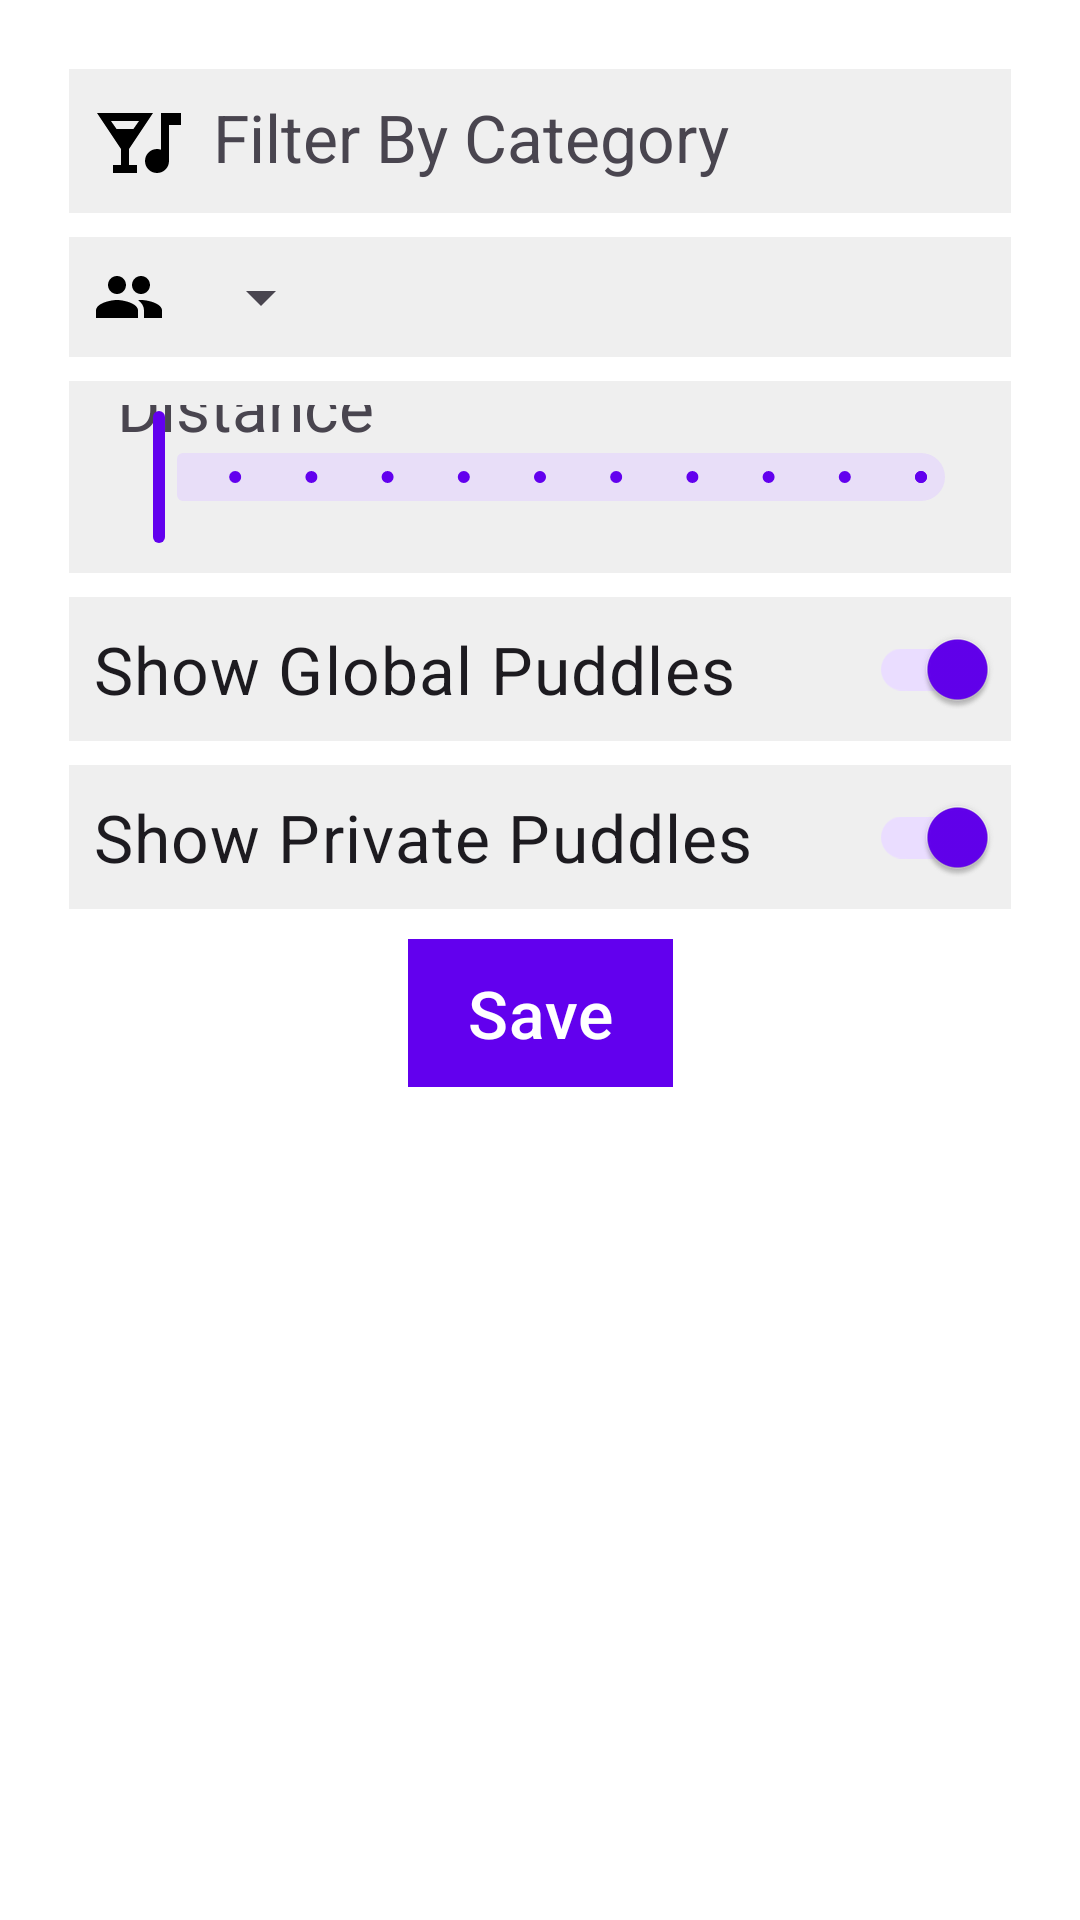

Locate icon controls on the screen. Image size 1080x1920, boxes as BBox(x1, y1, x2, y2).
member: BBox(96, 276, 162, 318)
